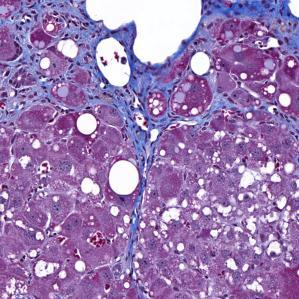fibrosis: (18, 13, 155, 120), (114, 98, 216, 154), (200, 4, 298, 52)
